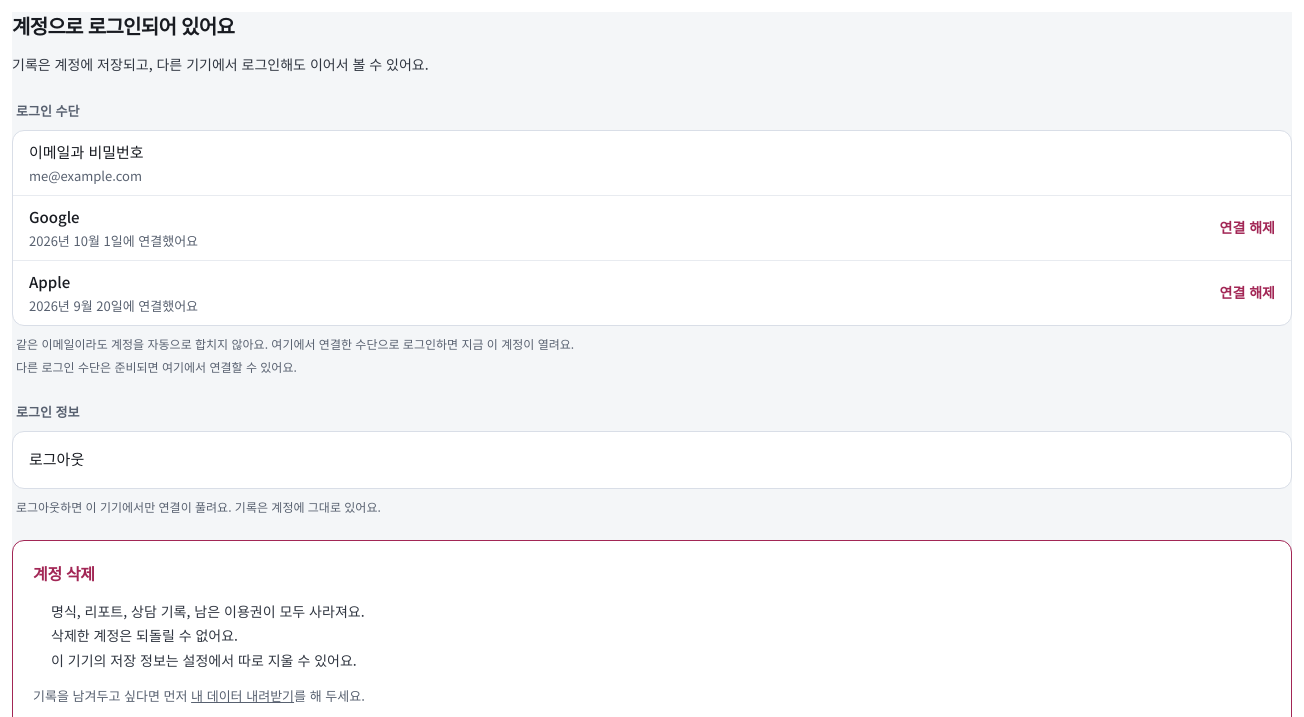
Test case: focus in account confirmation steps › moves focus to the status after an unlink succeeds
The width and height of the screenshot is (1304, 717).
Click the button with aria-label "Apple 연결 해제": (1247, 293) [1220,271,1275,315]
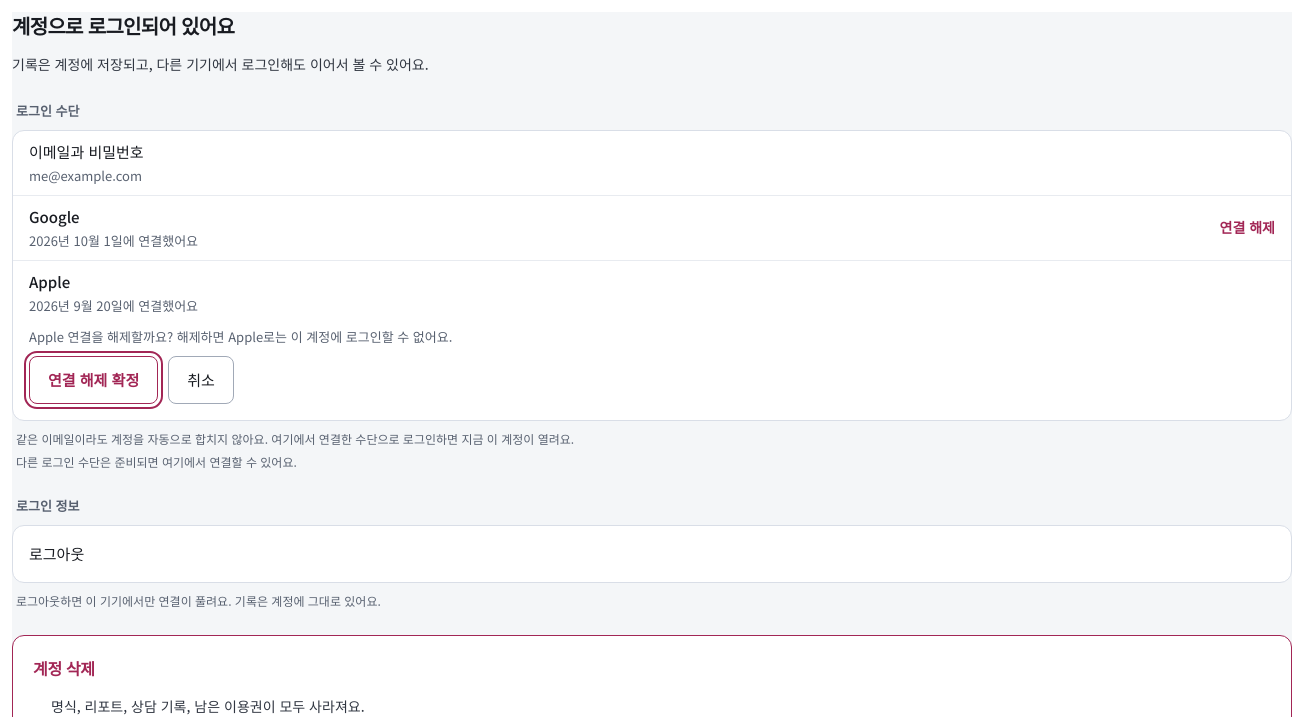
Click the button "연결 해제 확정": (94, 380) [29,356,158,404]
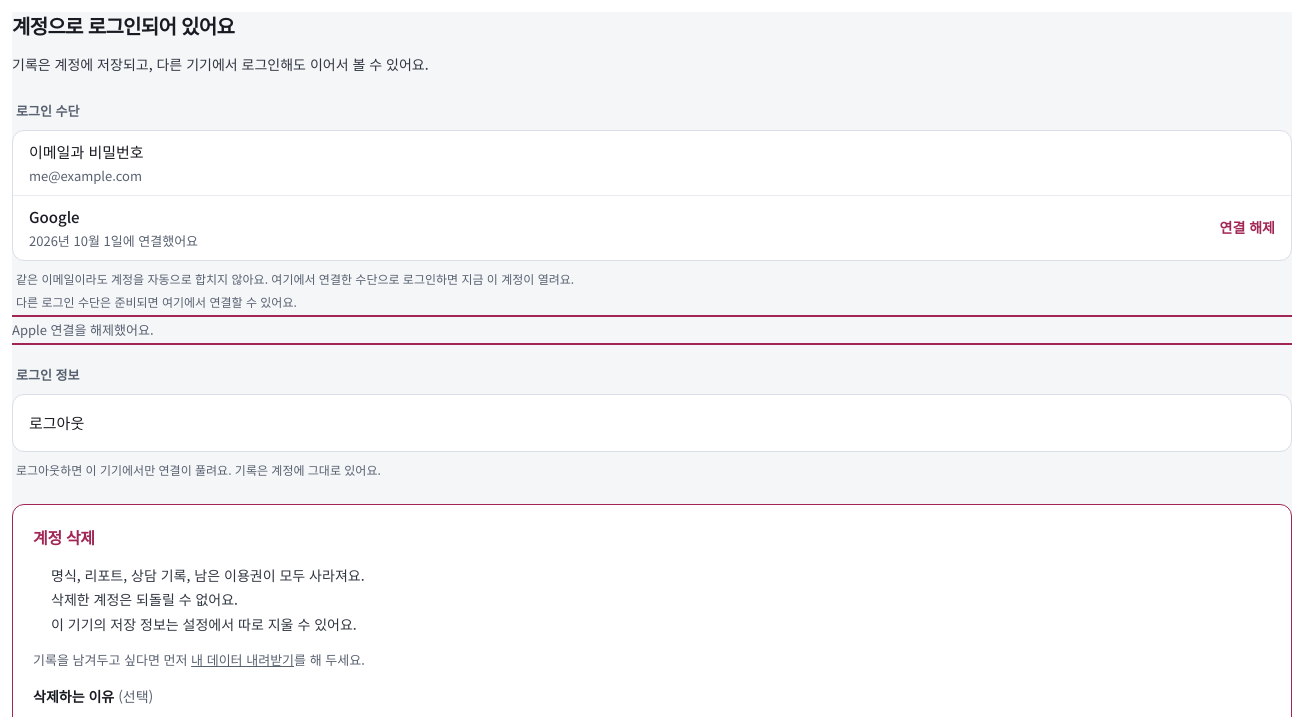
Expected: the message reads "Apple 연결을 해제했어요.", [12,320,154,339]
